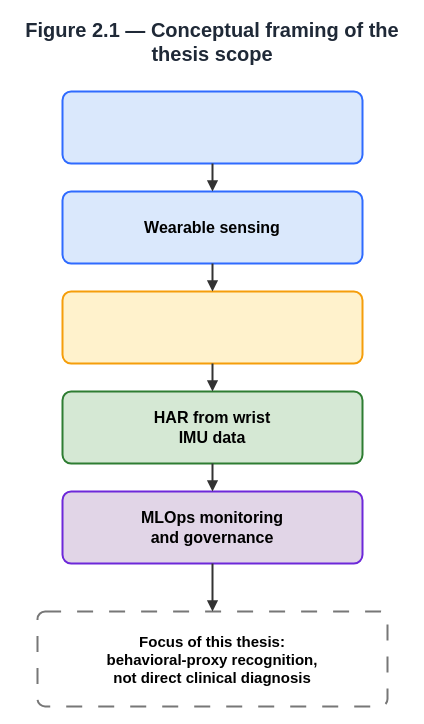
The diagram is 424 pixels wide and 724 high, and some of its shapes have lost their labels. The centre of each missing label's shape, as x and y in pixels:
Mental health monitoring need: pixel 212 127
Observable behavioral proxies: pixel 212 327
